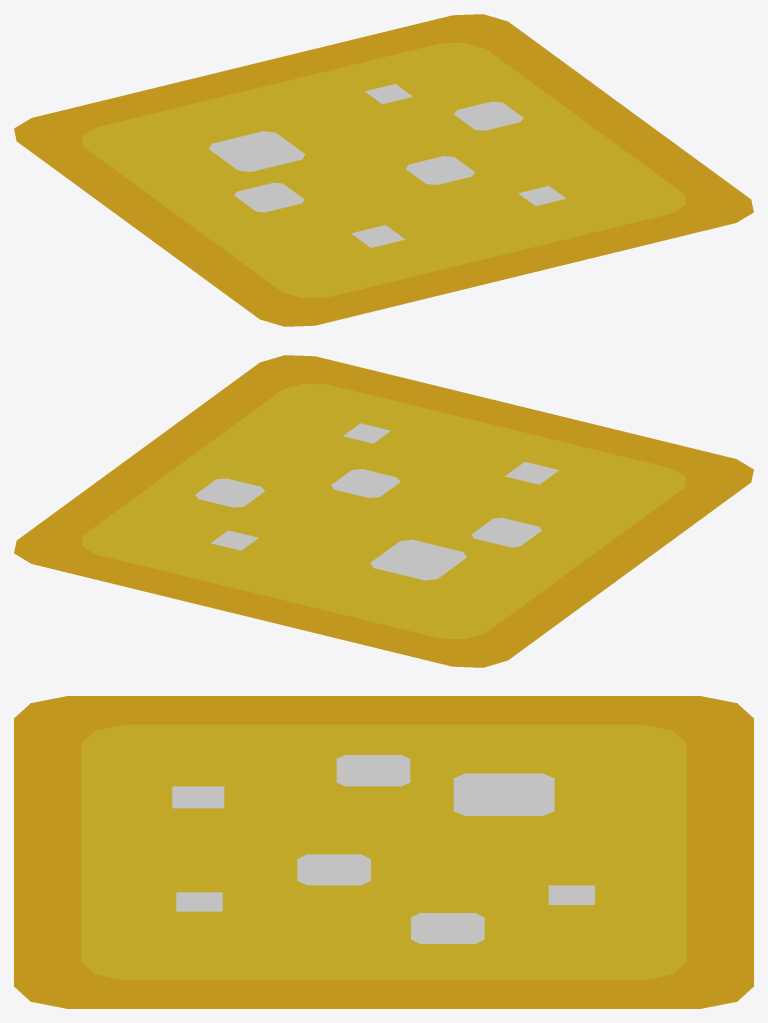
The model's file is BC_cookrecipe_03.fbx.
3 renders of one model, top to bottom at view 1: azimuth 30°, elevation 25°; view 2: azimuth 150°, elevation 25°; view 3: azimuth 270°, elevation 25°, orthographic. The views are drawn at different scales.
Visible parts, largest first — view 1: base, boko, boko4, boko2, boko1, boko3, boko5, boko6; view 2: base, boko, boko4, boko2, boko1, boko3, boko5, boko6; view 3: base, boko, boko4, boko1, boko2, boko3, boko5, boko6.
Part boxes in pixels (x1=…): base: x1=14, y1=14, x2=753, y2=326; boko: x1=209, y1=131, x2=305, y2=171; boko4: x1=234, y1=182, x2=304, y2=212; boko2: x1=454, y1=101, x2=523, y2=130; boko1: x1=406, y1=156, x2=474, y2=184; boko3: x1=351, y1=225, x2=404, y2=247; boko5: x1=365, y1=84, x2=412, y2=104; boko6: x1=518, y1=186, x2=566, y2=205; base: x1=14, y1=355, x2=753, y2=667; boko: x1=370, y1=539, x2=466, y2=580; boko4: x1=471, y1=517, x2=541, y2=547; boko2: x1=195, y1=478, x2=264, y2=507; boko1: x1=331, y1=469, x2=400, y2=497; boko3: x1=505, y1=462, x2=558, y2=484; boko5: x1=211, y1=530, x2=258, y2=550; boko6: x1=343, y1=423, x2=390, y2=443; base: x1=14, y1=696, x2=753, y2=1008; boko: x1=453, y1=773, x2=554, y2=815; boko4: x1=336, y1=755, x2=410, y2=786; boko1: x1=297, y1=854, x2=370, y2=885; boko2: x1=411, y1=913, x2=484, y2=943; boko3: x1=172, y1=786, x2=224, y2=808; boko5: x1=548, y1=885, x2=594, y2=904; boko6: x1=176, y1=892, x2=222, y2=911.
Bounding box in the file's own units: 3.5 × 0.033 × 3.5.
